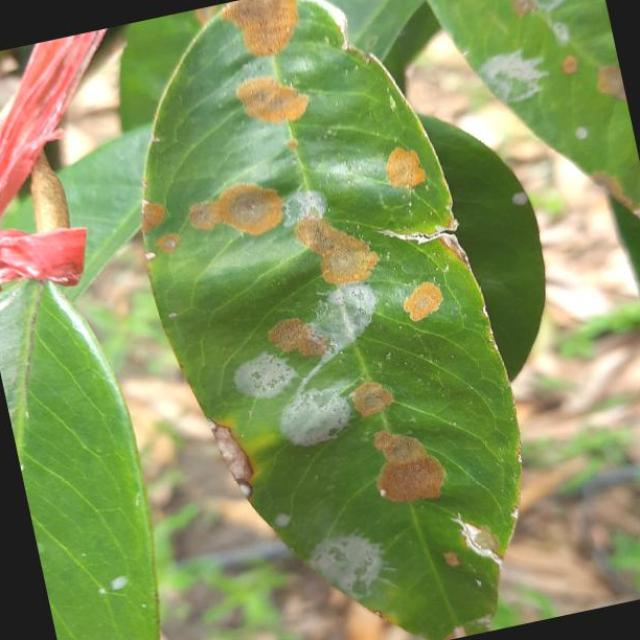Algal Leaf Spot: (85, 0, 569, 640)
